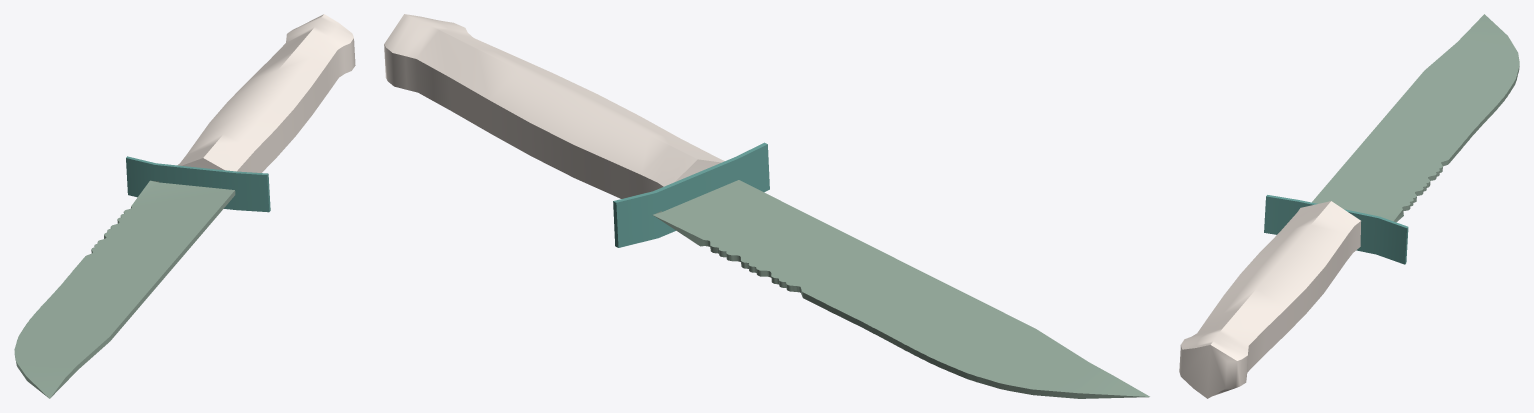
3 views of the same model, side by side, from view 1: azimuth 90°, elevation 25°; view 2: azimuth 150°, elevation 25°; view 3: azimuth 270°, elevation 25° (orthographic). The views are drawn at different scales.
Visible parts, largest first — view 1: defaultMaterial, defaultMaterial.028, defaultMaterial.018; view 2: defaultMaterial, defaultMaterial.028, defaultMaterial.018; view 3: defaultMaterial, defaultMaterial.028, defaultMaterial.018.
Part boxes in pixels (<box>): defaultMaterial: <box>14,180,235,398</box>; defaultMaterial.028: <box>178,14,355,172</box>; defaultMaterial.018: <box>126,156,270,212</box>; defaultMaterial: <box>653,180,1149,398</box>; defaultMaterial.028: <box>384,14,724,198</box>; defaultMaterial.018: <box>613,142,769,247</box>; defaultMaterial: <box>1312,14,1519,222</box>; defaultMaterial.028: <box>1179,201,1361,398</box>; defaultMaterial.018: <box>1264,195,1408,264</box>.
Size of the model in its own units: 1 by 0.0709 by 0.3999.
